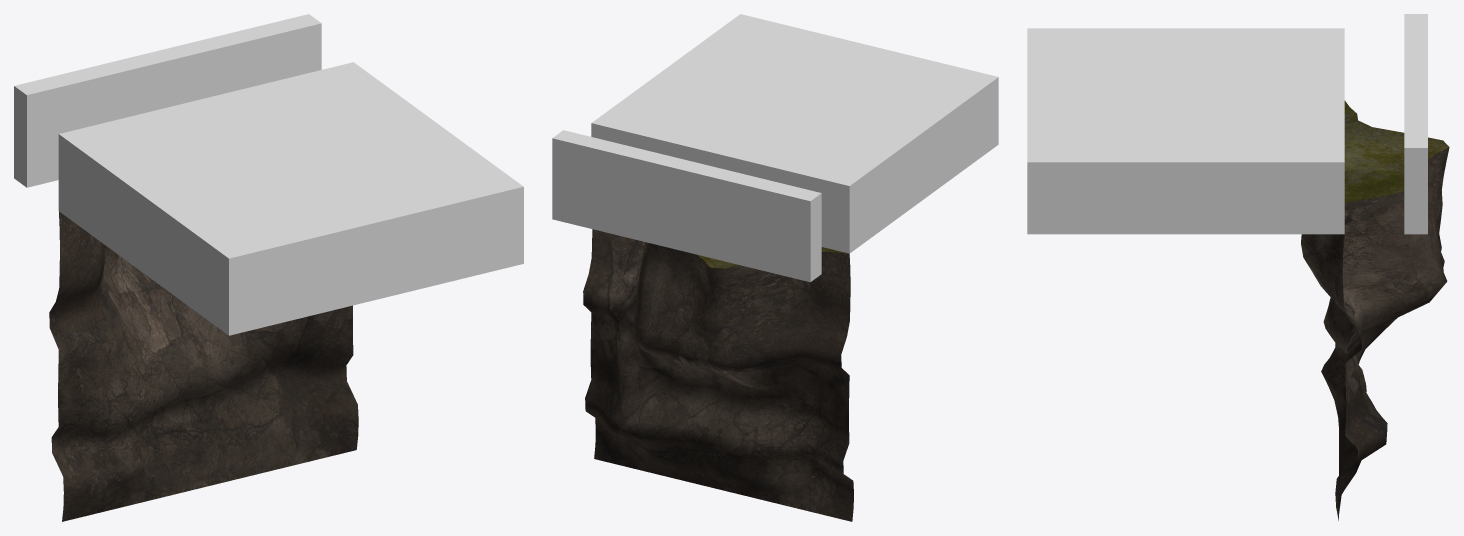
Rendered from cliff_edge_overhang_4m.glb.
The picture shows the model from 3 angles, left to right: view 1: azimuth 30°, elevation 25°; view 2: azimuth 150°, elevation 25°; view 3: azimuth 270°, elevation 25°; orthographic projection. The views are drawn at different scales.
Visible parts, largest first — view 1: col_walk_cliff_edge_overhang_4m, cliff_edge_overhang_4m, col_block_rim_cliff_edge_overhang_4m_0; view 2: cliff_edge_overhang_4m, col_walk_cliff_edge_overhang_4m, col_block_rim_cliff_edge_overhang_4m_0; view 3: col_walk_cliff_edge_overhang_4m, cliff_edge_overhang_4m, col_block_rim_cliff_edge_overhang_4m_0.
Boxes of the visible parts, x1,y1,x2,y2 form: col_walk_cliff_edge_overhang_4m: (58, 62, 523, 335); cliff_edge_overhang_4m: (49, 211, 358, 521); col_block_rim_cliff_edge_overhang_4m_0: (14, 14, 321, 187); cliff_edge_overhang_4m: (583, 229, 853, 521); col_walk_cliff_edge_overhang_4m: (591, 14, 998, 253); col_block_rim_cliff_edge_overhang_4m_0: (552, 130, 821, 282); col_walk_cliff_edge_overhang_4m: (1027, 28, 1344, 234); cliff_edge_overhang_4m: (1301, 100, 1449, 520); col_block_rim_cliff_edge_overhang_4m_0: (1404, 14, 1427, 234).
Size of the model in its own units: 4 by 5.2 by 5.32.
Materials: 2 (2 with a texture image).
